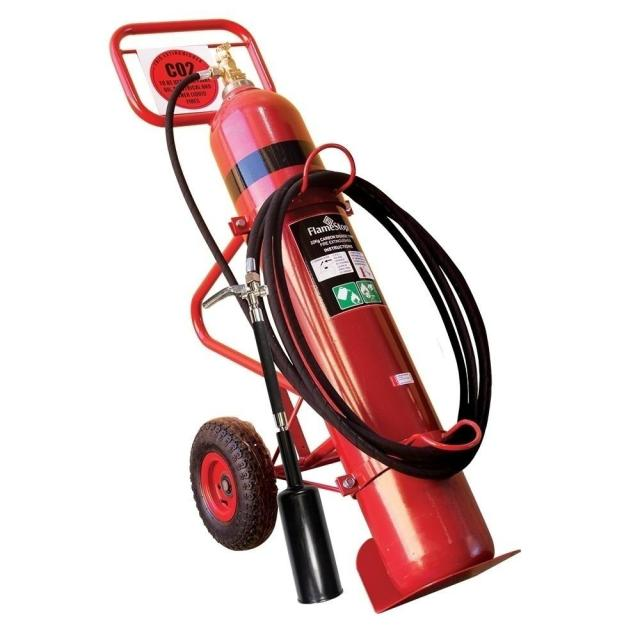fire_extinguisher: (156, 29, 502, 617)
